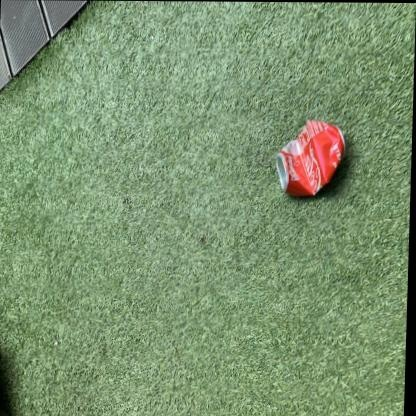trash: (276, 120, 344, 196)
